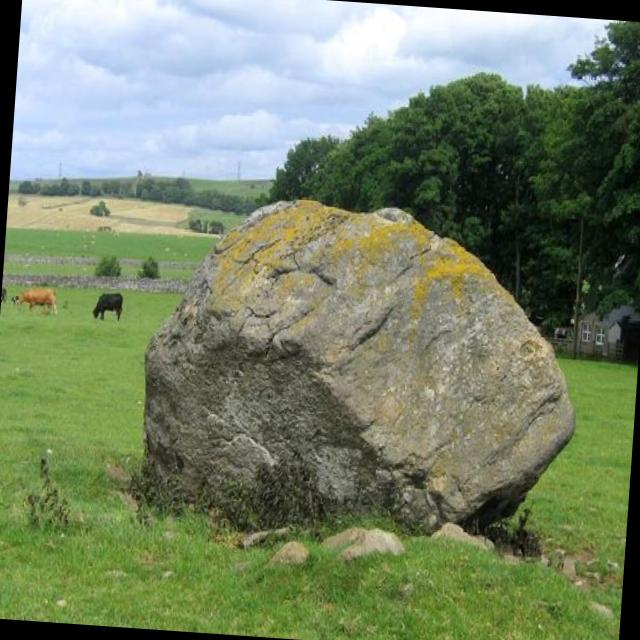grass: (0, 285, 637, 640), (4, 229, 213, 262), (3, 261, 93, 275), (161, 267, 191, 278), (122, 265, 137, 275)
stone: (143, 198, 573, 531), (320, 527, 404, 558), (429, 522, 492, 548), (240, 527, 287, 548), (270, 538, 306, 562)
